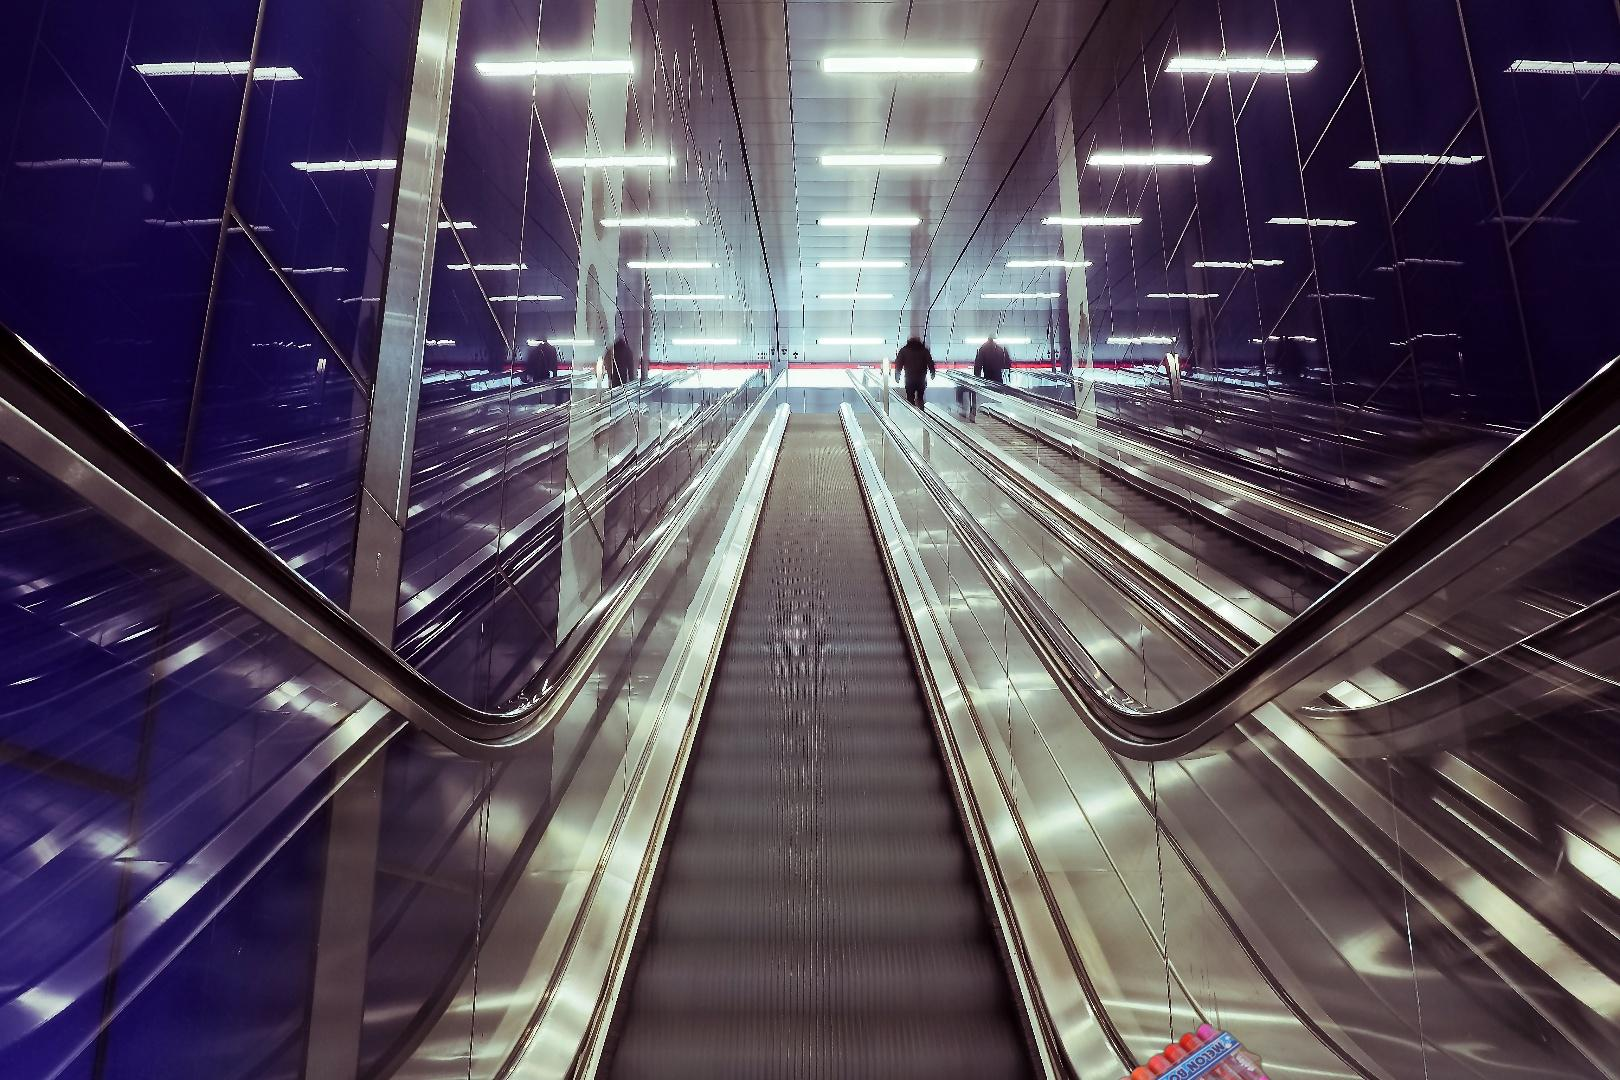penholder: (1000, 1020, 1316, 1080)
